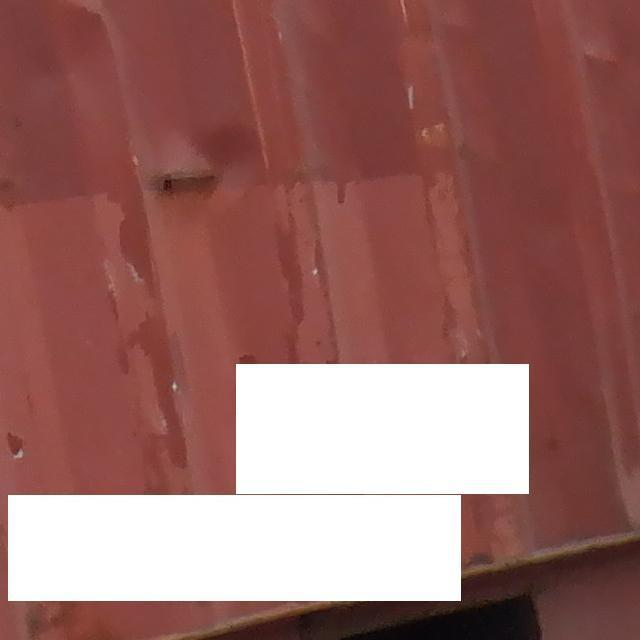dent: (124, 120, 275, 229)
